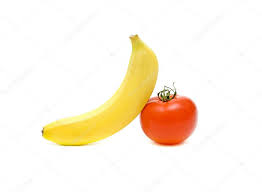banana: (40, 33, 149, 147)
tomato: (141, 96, 198, 146)
